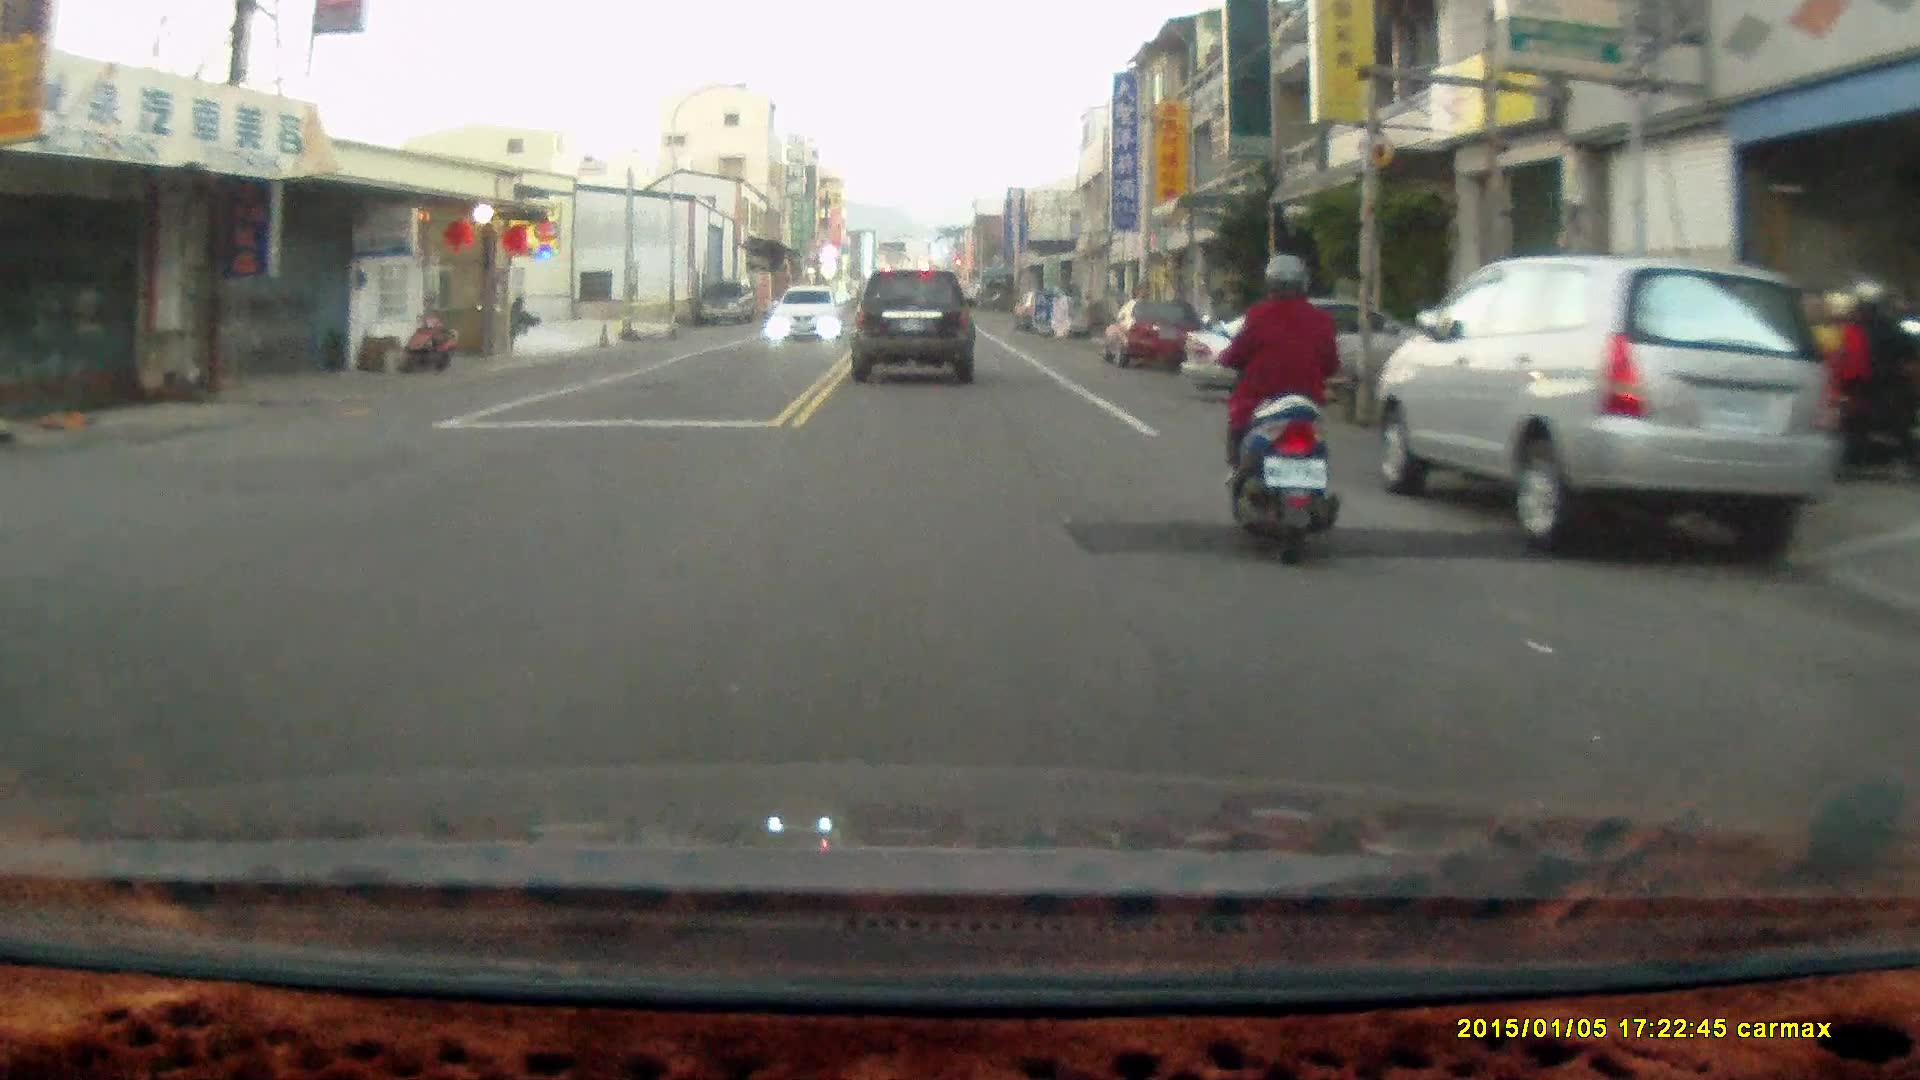rider: (1198, 249, 1341, 562), (1811, 281, 1912, 484)
vehicle: (1376, 254, 1845, 556), (1182, 297, 1414, 401), (850, 270, 980, 391), (1102, 296, 1200, 371), (768, 287, 842, 342), (698, 280, 757, 325)
